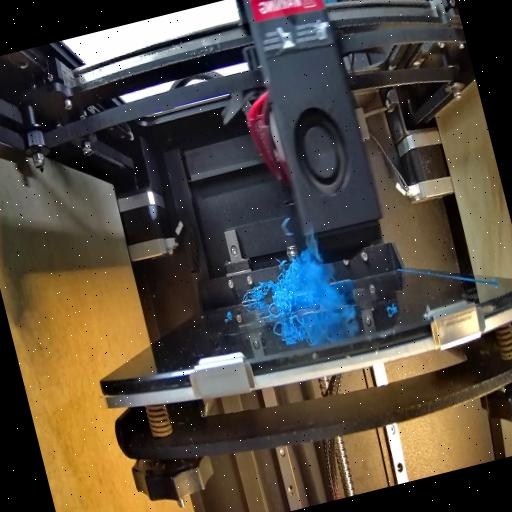spaghetti: (241, 256, 321, 320)
